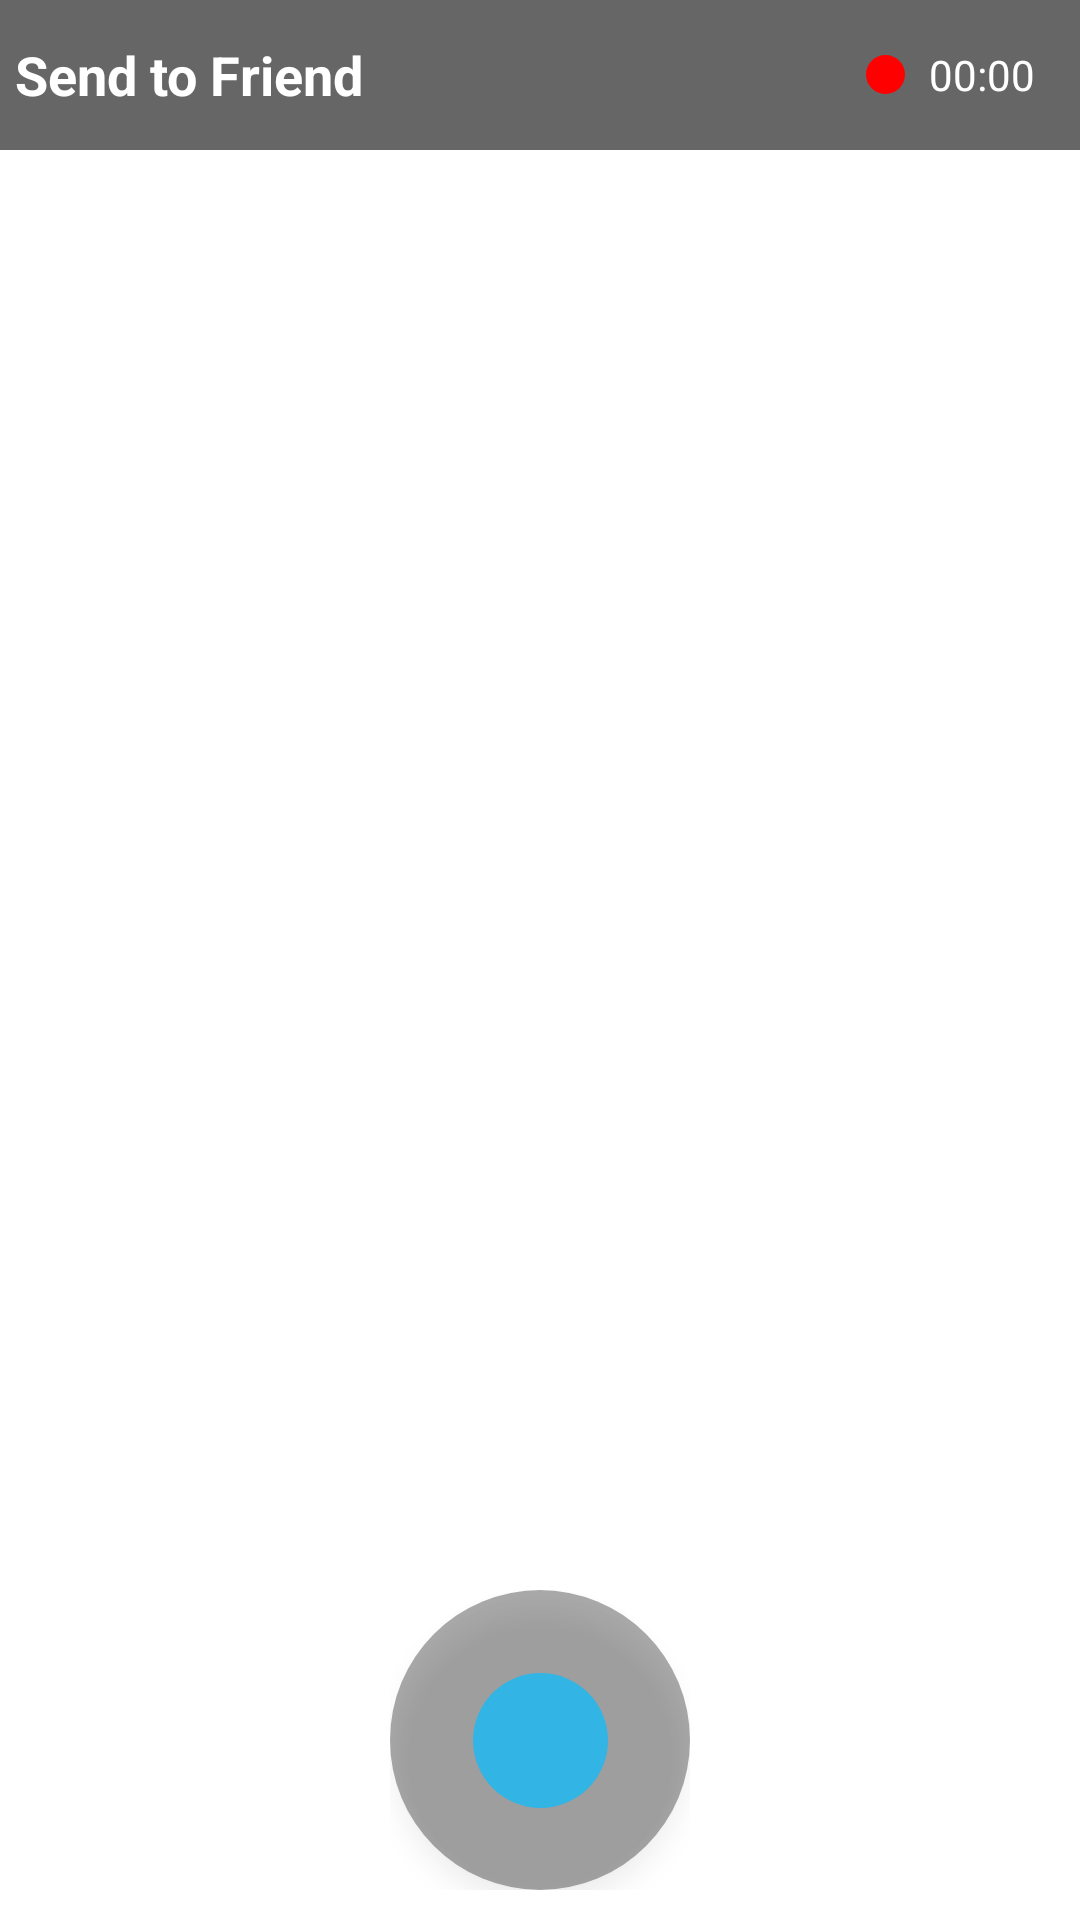

Named icons in this screenshot (1080px×1920px) and their centers, point (x, y):
capture oval: point (540, 1740)
